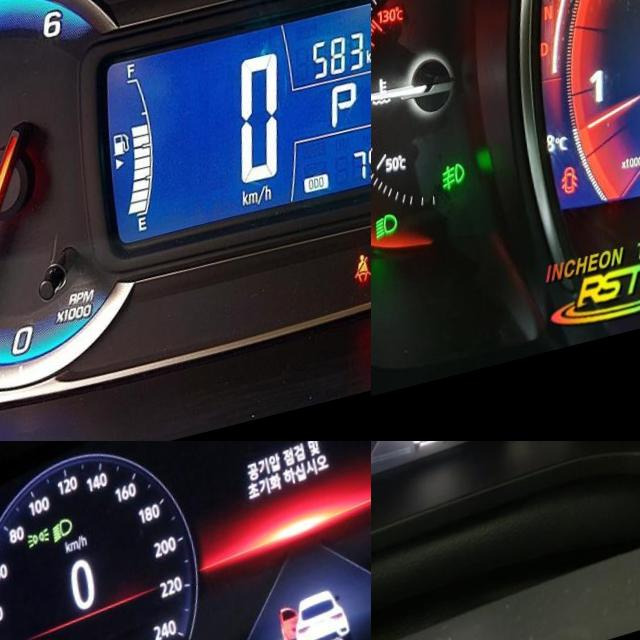Doors: (552, 187, 572, 219)
FrontFogLight: (433, 179, 457, 211)
Low beam: (45, 519, 69, 547), (371, 224, 390, 254)
SideLamp: (19, 529, 45, 553)
